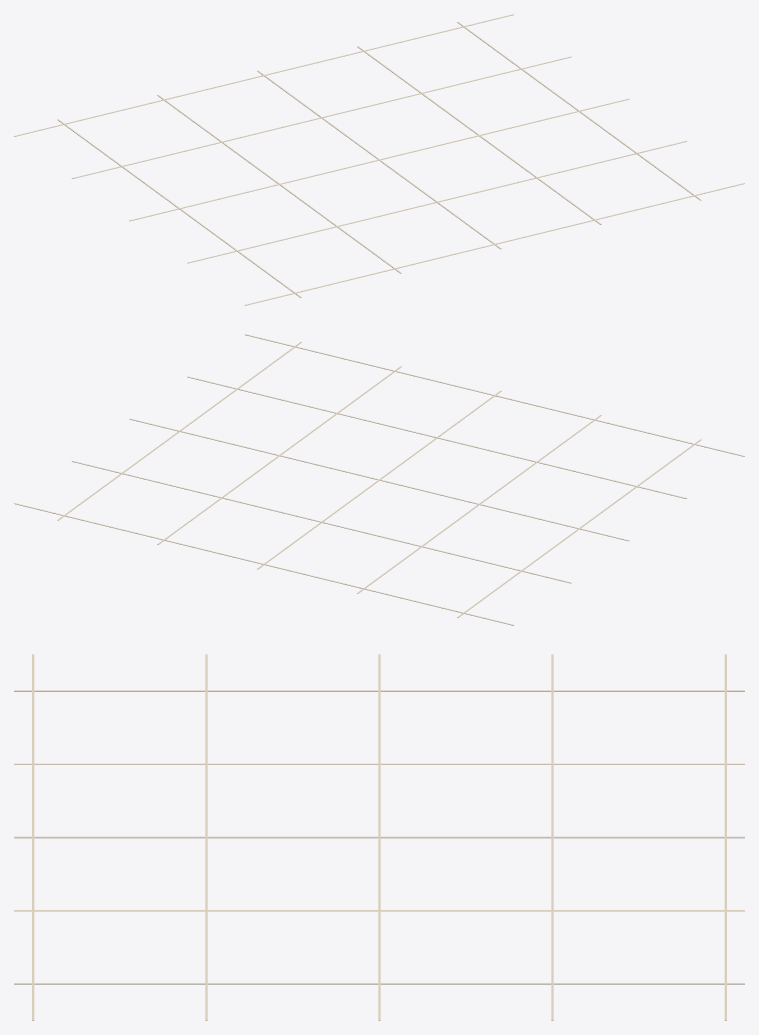
3 renders of one model, top to bottom at view 1: azimuth 30°, elevation 25°; view 2: azimuth 150°, elevation 25°; view 3: azimuth 270°, elevation 25°, orthographic. The views are drawn at different scales.
Parts seen in each view (by area): view 1: Grout Y.001, Grout Y.003, Grout Y, Grout Y.002, Grout Y.004, Grout X.002, Grout X.001, Grout X.003, Grout X, Grout X.004; view 2: Grout Y.001, Grout Y.003, Grout Y, Grout Y.002, Grout Y.004, Grout X.002, Grout X.001, Grout X.003, Grout X, Grout X.004; view 3: Grout X.002, Grout X.001, Grout X, Grout X.004, Grout X.003, Grout Y.001, Grout Y.002, Grout Y.003, Grout Y.004, Grout Y.
Part boxes in pixels (x1,y1,x2,y2): Grout Y.001: (187,141,686,263); Grout Y.003: (72,56,571,178); Grout Y: (245,183,744,305); Grout Y.002: (129,98,629,221); Grout Y.004: (14,14,513,136); Grout X.002: (257,70,501,249); Grout X.001: (157,95,401,273); Grout X.003: (357,46,601,224); Grout X: (57,119,301,297); Grout X.004: (457,22,701,200); Grout Y.001: (187,376,686,498); Grout Y.003: (72,461,571,583); Grout Y: (245,334,744,456); Grout Y.002: (129,418,629,541); Grout Y.004: (14,503,513,625); Grout X.002: (257,390,501,569); Grout X.001: (357,415,601,593); Grout X.003: (157,366,401,544); Grout X: (457,439,701,617); Grout X.004: (57,342,301,520); Grout X.002: (14,836,744,838); Grout X.001: (14,763,744,764); Grout X: (14,690,744,691); Grout X.004: (14,983,744,984); Grout X.003: (14,910,744,911); Grout Y.001: (205,654,207,1020); Grout Y.002: (378,654,380,1020); Grout Y.003: (551,654,553,1020); Grout Y.004: (724,654,726,1020); Grout Y: (32,654,34,1020).
Size of the model in its own units: 4.5 by 0.003 by 3.8.
Materials: 1 (1 with a texture image).
